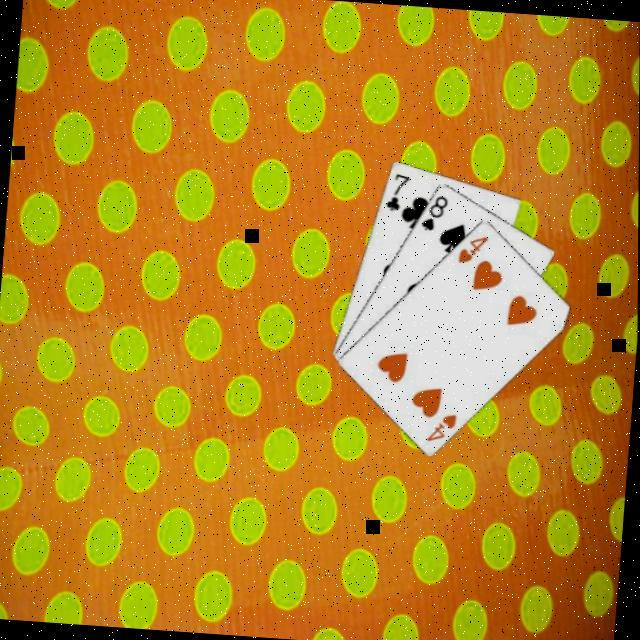4H: (421, 410, 457, 448), (453, 232, 489, 268)
7C: (380, 170, 411, 216)
8S: (416, 192, 449, 236)
